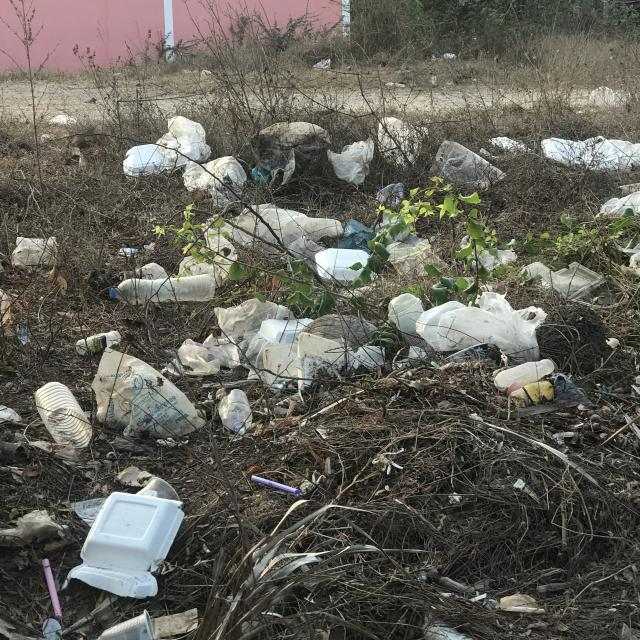Single-layer Plastic: (91, 349, 205, 439), (415, 292, 546, 362), (226, 204, 344, 266), (476, 292, 546, 344), (179, 228, 238, 286), (541, 136, 640, 170), (214, 298, 294, 340), (182, 156, 246, 208), (158, 116, 211, 168), (386, 235, 448, 276), (239, 332, 280, 380), (178, 339, 220, 375), (338, 219, 375, 254), (202, 335, 240, 369), (600, 191, 640, 215), (478, 248, 518, 271)
